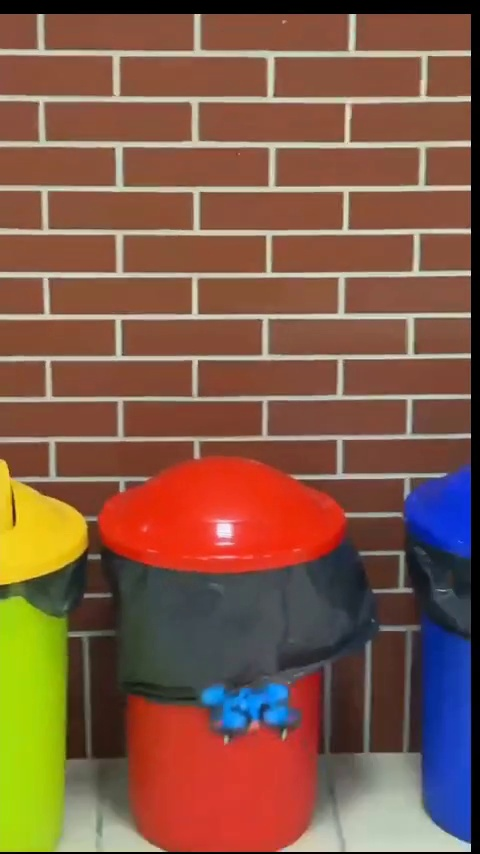drone: (195, 682, 298, 745)
